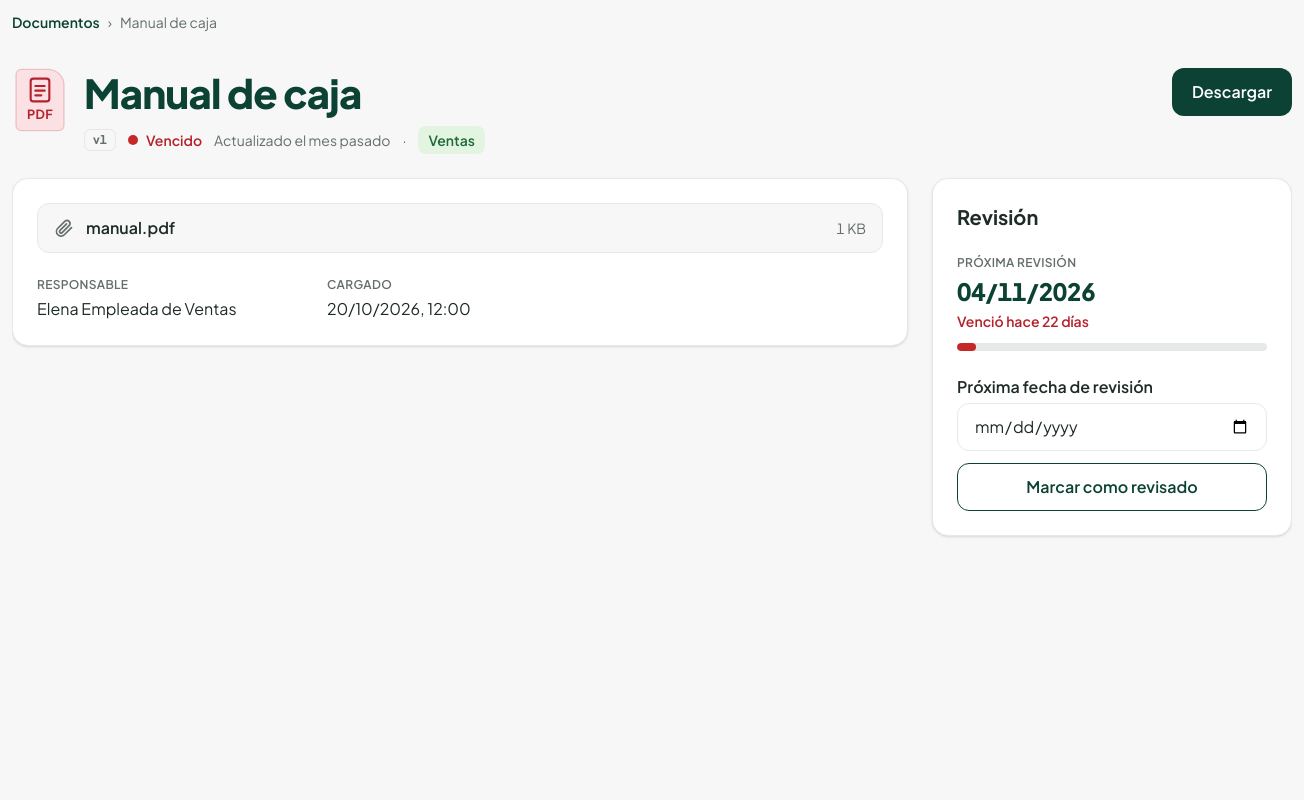
sección "Revisión" (T19; F4, R6, R9) › E8: después de marcar, "Revisión registrada" y el detalle se vuelve a pedir
Type "2099-05-09" into the date field labelled "Próxima fecha de revisión".
click(1112, 427); type("2099-05-09")  # box top-left (957, 403), bottom-right (1267, 451)
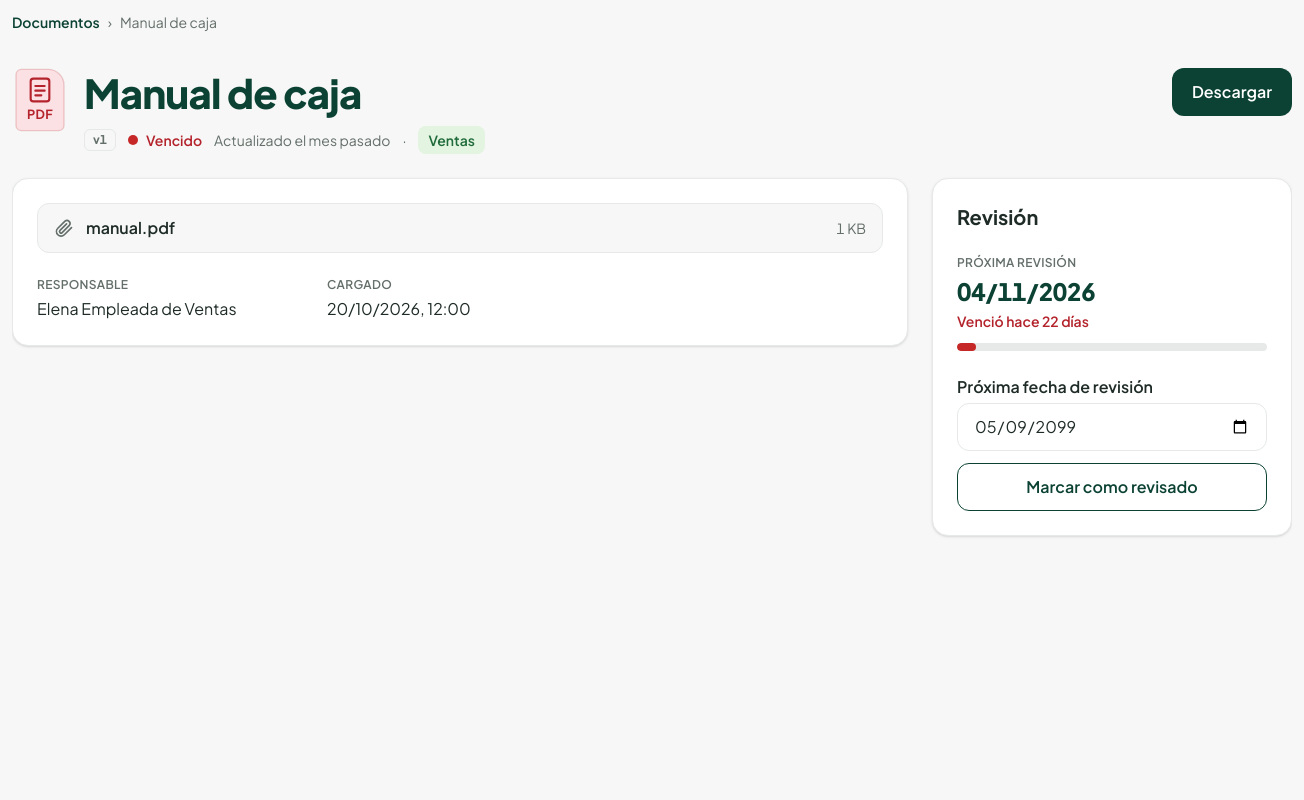
Click the button "Marcar como revisado".
click(1112, 487)  # box top-left (957, 463), bottom-right (1267, 511)
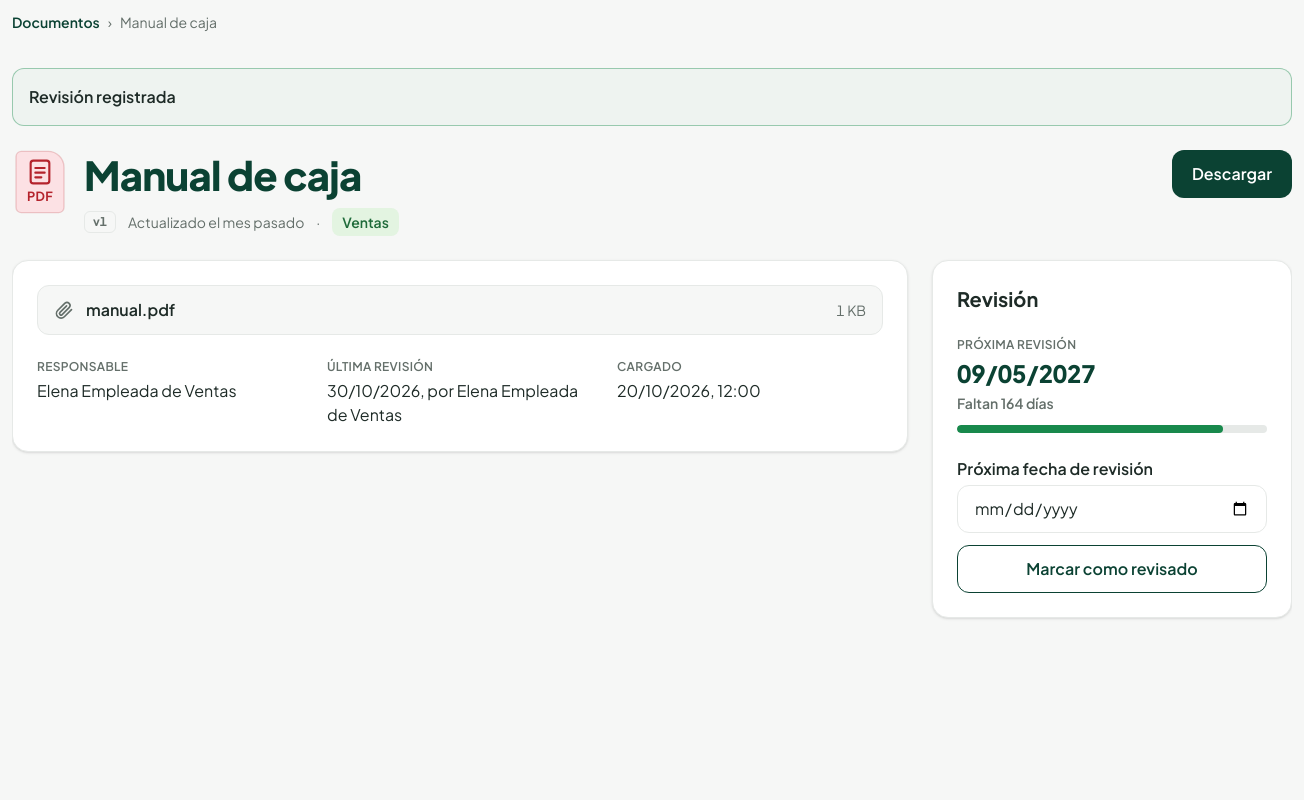
Result: the text "Vencido" is gone
